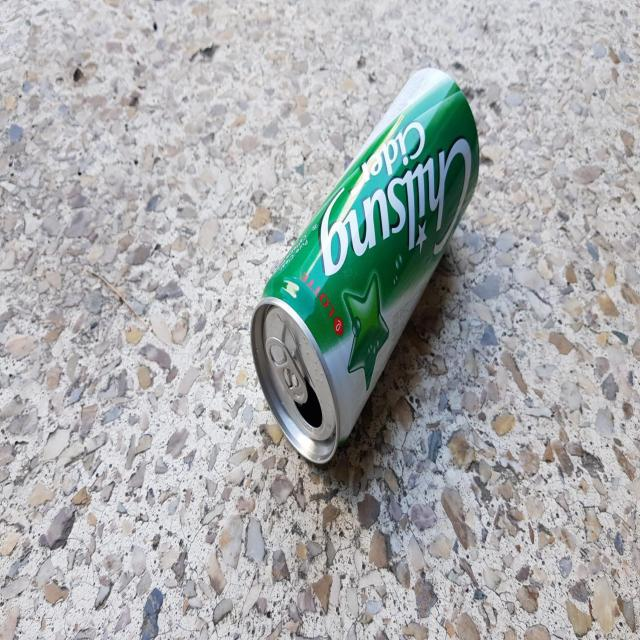can: (251, 66, 480, 463)
